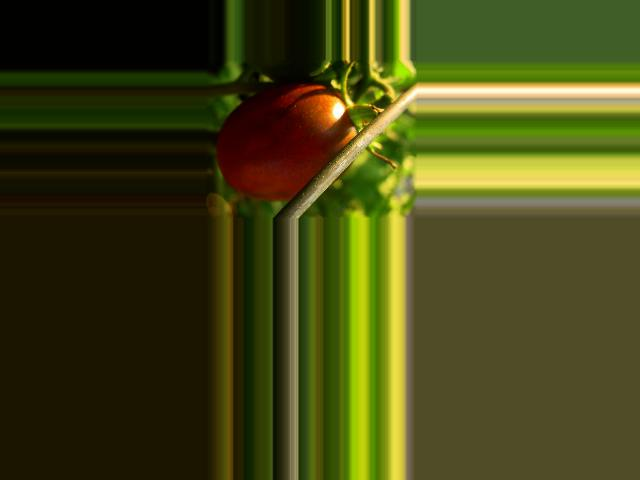tomato: (217, 84, 356, 199)
